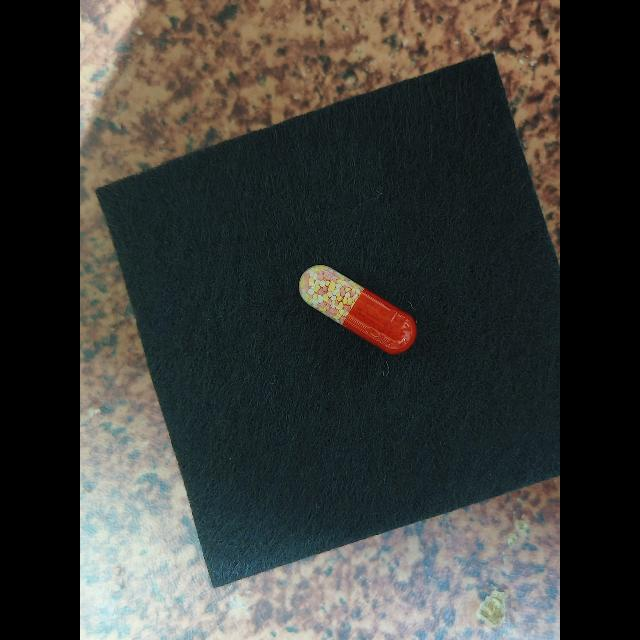Intact Capsule: (298, 265, 417, 354)
